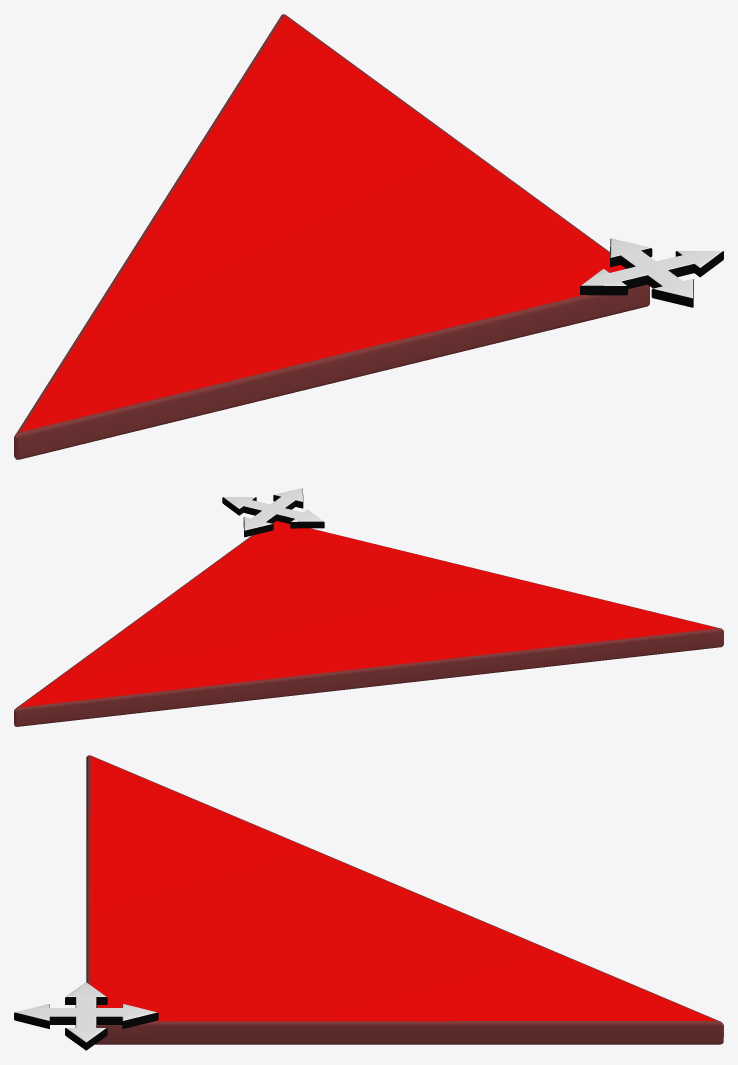
The model's file is calibration_point.glb.
The picture shows the model from 3 angles, top to bottom: view 1: azimuth 30°, elevation 25°; view 2: azimuth 150°, elevation 25°; view 3: azimuth 270°, elevation 25°; orthographic projection. The views are drawn at different scales.
Parts seen in each view (by area): view 1: Triangle, Mover; view 2: Triangle, Mover; view 3: Triangle, Mover.
Boxes of the visible parts, <box> form: Triangle: <box>14,14,649,459</box>; Mover: <box>580,238,723,307</box>; Triangle: <box>14,521,723,726</box>; Mover: <box>222,488,324,537</box>; Triangle: <box>86,755,723,1044</box>; Mover: <box>14,982,158,1050</box>.
Size of what is drawn, in the model's own units: 0.3098 by 0.0164 by 0.3098.
